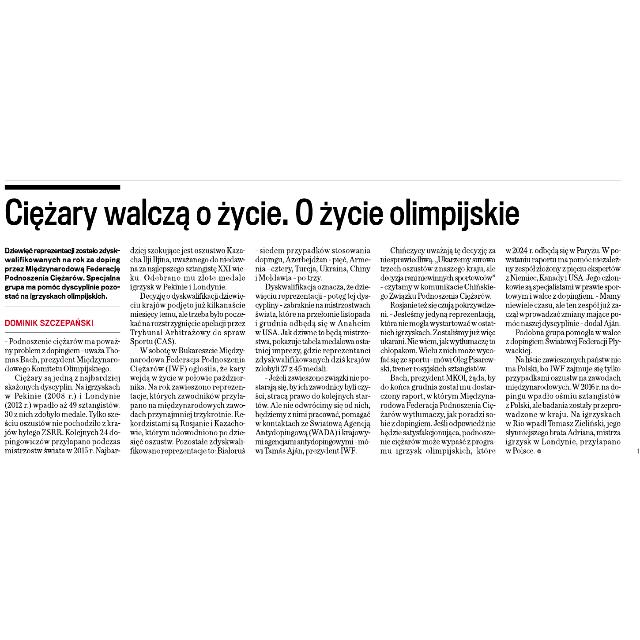author: (2, 314, 100, 328)
body: (250, 243, 372, 457), (375, 241, 497, 455), (501, 244, 623, 456), (127, 244, 247, 456), (2, 334, 122, 456)
lead: (2, 244, 122, 302)
title: (3, 192, 531, 234)
